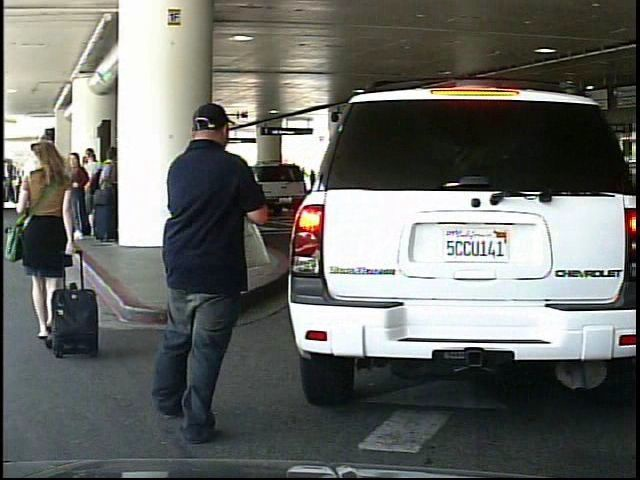person: (152, 102, 269, 443), (6, 131, 81, 362)
